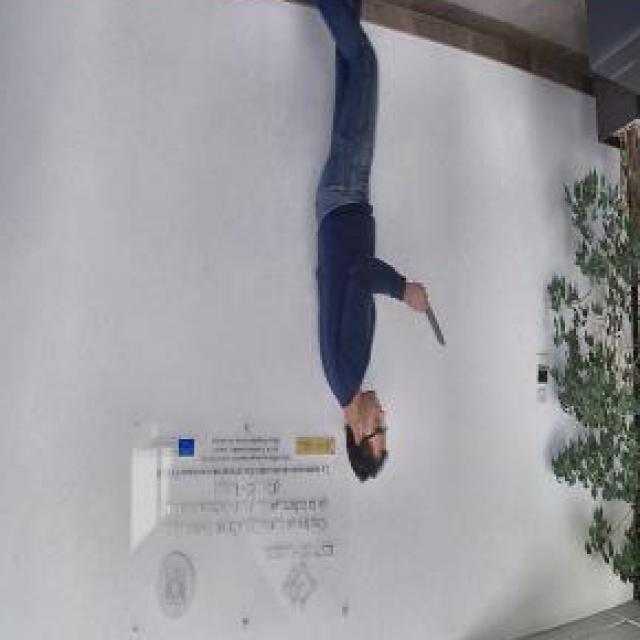knife: (418, 287, 450, 351)
